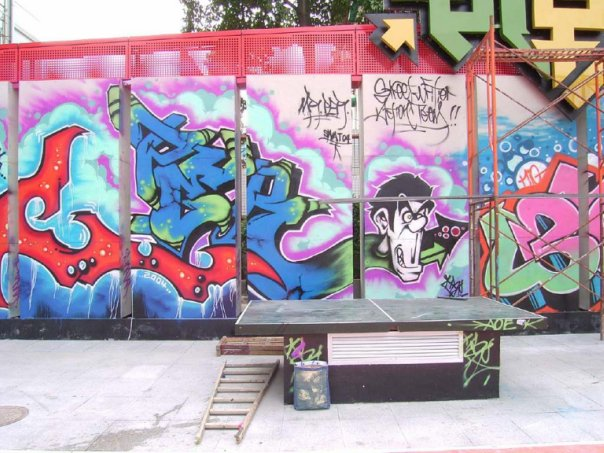graffity: (3, 77, 473, 318), (480, 92, 604, 316), (295, 74, 464, 167), (448, 319, 545, 391), (280, 334, 330, 388)
